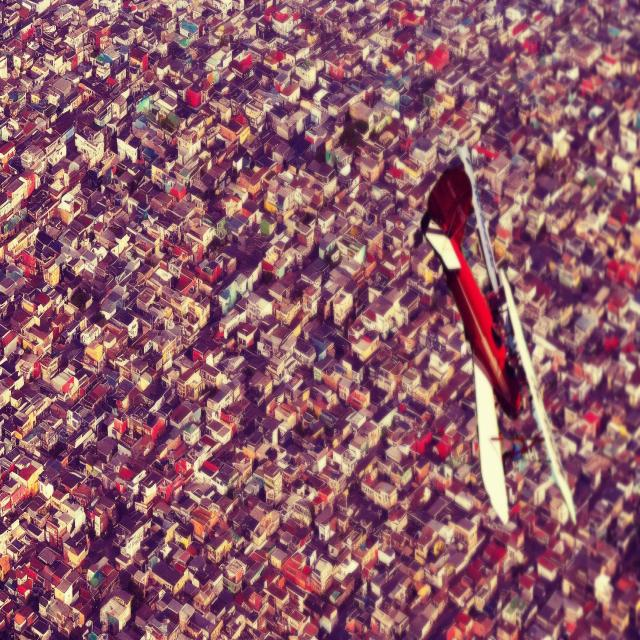airplane: (420, 140, 577, 527)
